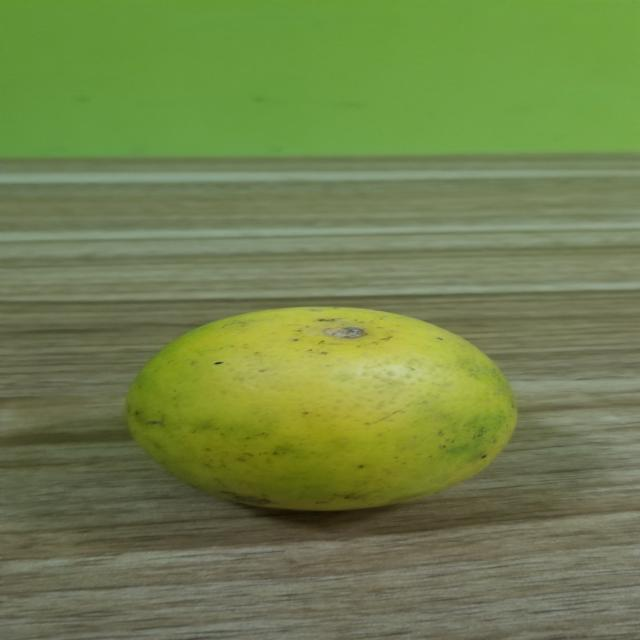Ripe orange: (121, 305, 539, 527)
